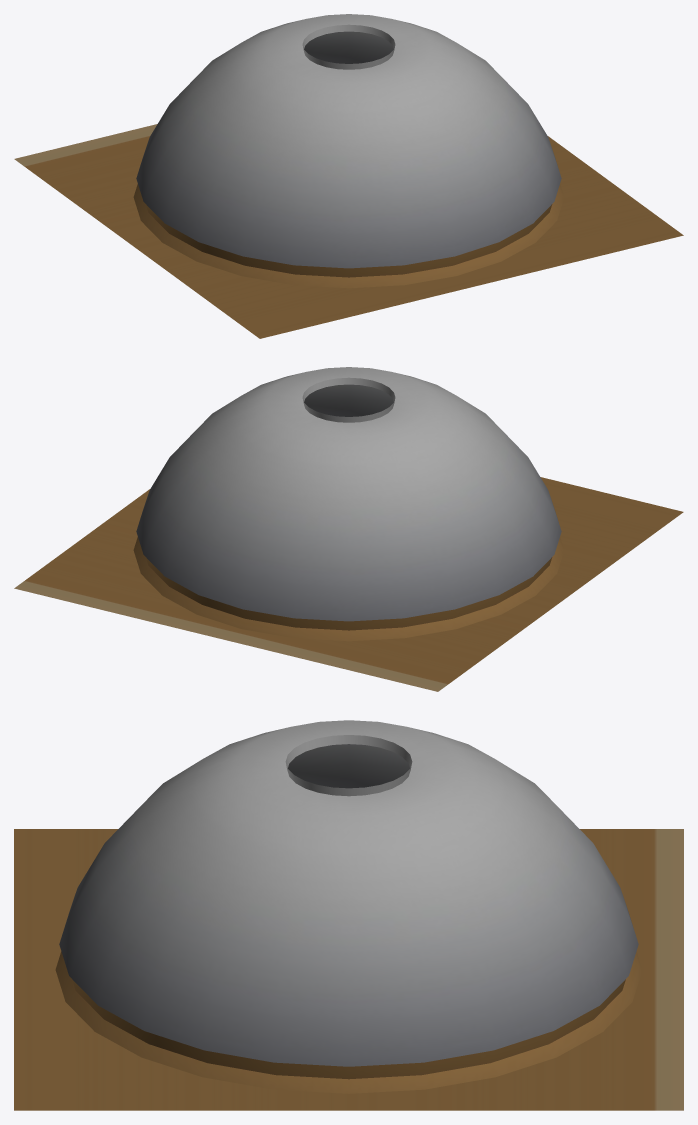
Rendered from Pantheon_Inteior_Techo.fbx.
3 renders of one model, top to bottom at view 1: azimuth 30°, elevation 25°; view 2: azimuth 150°, elevation 25°; view 3: azimuth 270°, elevation 25°, orthographic. The views are drawn at different scales.
Visible parts, largest first — view 1: Pantheon_Inteior_Techo; view 2: Pantheon_Inteior_Techo; view 3: Pantheon_Inteior_Techo.
Part boxes in pixels (left/top/right/bottom): Pantheon_Inteior_Techo: left=14, top=14, right=683, bottom=338; Pantheon_Inteior_Techo: left=14, top=367, right=683, bottom=691; Pantheon_Inteior_Techo: left=14, top=720, right=683, bottom=1110.
Bounding box in the file's own units: 96.75 × 33.32 × 97.18.
